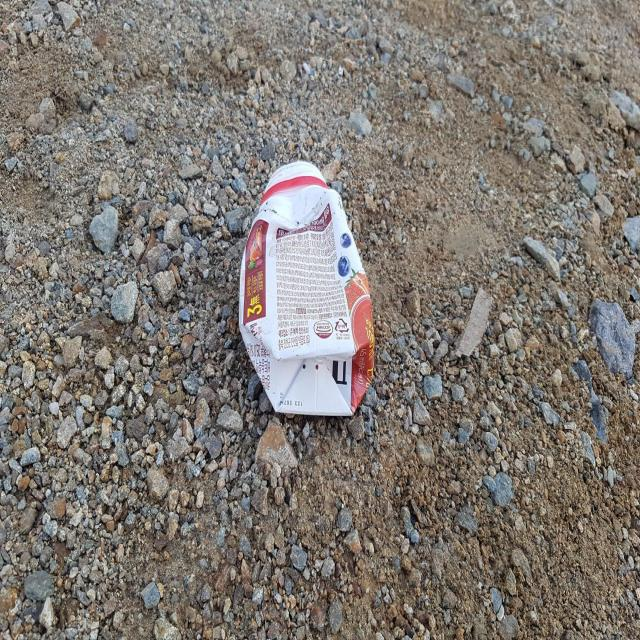paperpack: (239, 160, 375, 415)
